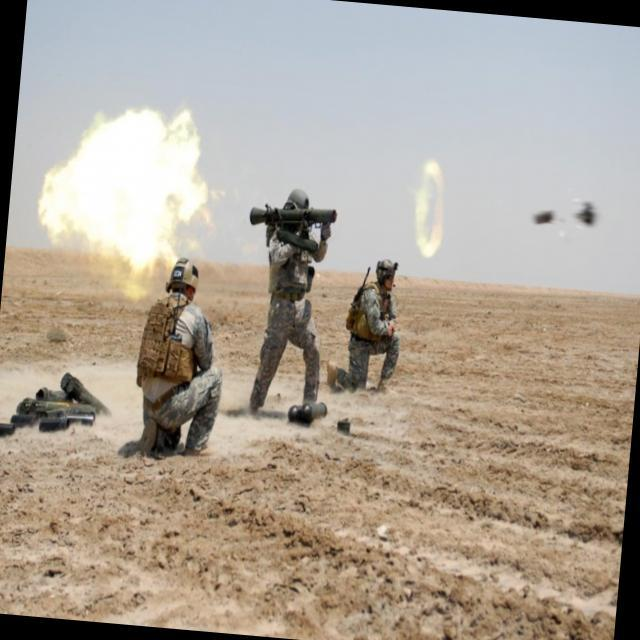rocket: (245, 198, 342, 239)
